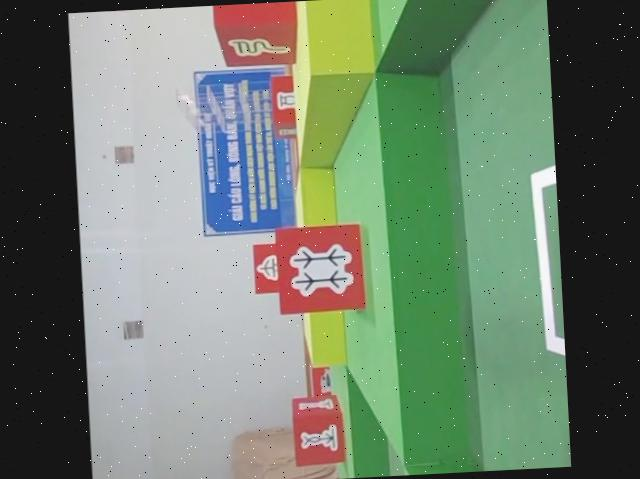R2 Fake: (209, 1, 301, 70)
R2 Real: (272, 219, 369, 316), (289, 393, 350, 467)
